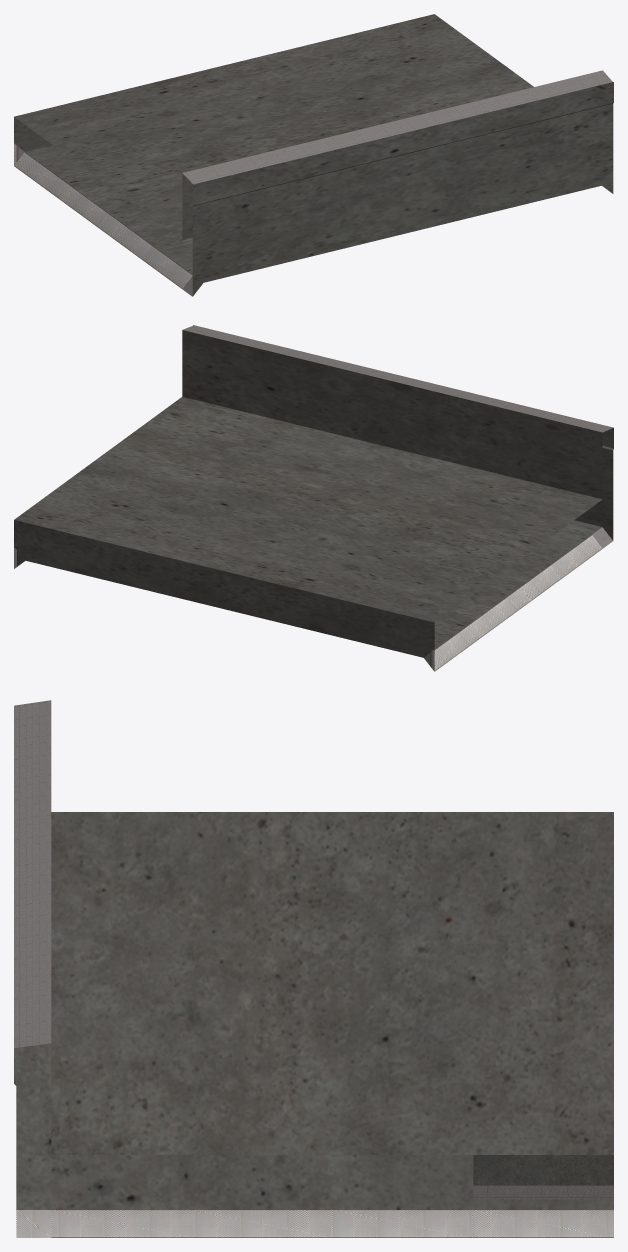
Rendered from roof.fbx.
3 views of the same model, one above another, from view 1: azimuth 30°, elevation 25°; view 2: azimuth 150°, elevation 25°; view 3: azimuth 270°, elevation 25° (orthographic). The views are drawn at different scales.
Visible parts, largest first — view 1: 12DR_Slope.001; view 2: 12DR_Slope.001; view 3: 12DR_Slope.001.
Part boxes in pixels (left/top/right/bottom): 12DR_Slope.001: left=14, top=14, right=613, bottom=296; 12DR_Slope.001: left=14, top=325, right=613, bottom=671; 12DR_Slope.001: left=14, top=700, right=613, bottom=1237.
Size of the model in its own units: 2310 by 610 by 1707.
